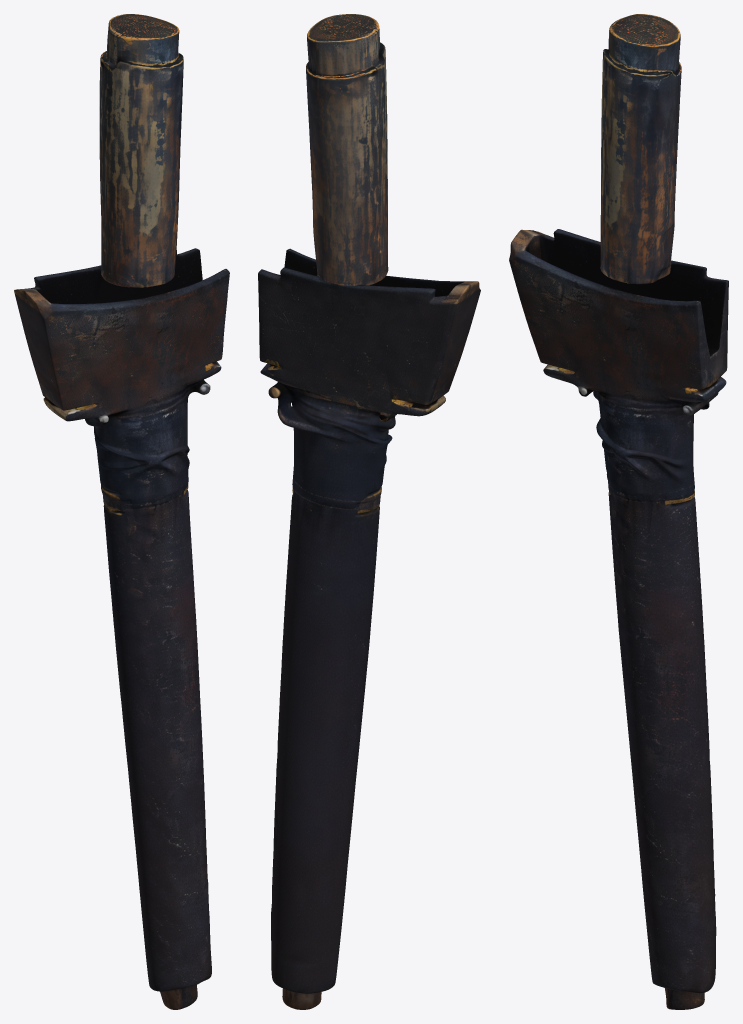
Rendered from Kris Luk 15.glb.
3 renders of one model, left to right at view 1: azimuth 30°, elevation 25°; view 2: azimuth 150°, elevation 25°; view 3: azimuth 330°, elevation 25°, orthographic.
Parts seen in each view (by area): view 1: Mesh_0; view 2: Mesh_0; view 3: Mesh_0.
Boxes of the visible parts, box(x1,y1,x2,y2) form: Mesh_0: box(14, 14, 229, 1009); Mesh_0: box(258, 14, 480, 1009); Mesh_0: box(509, 14, 728, 1009).
Bounding box in the file's own units: 0.1217 × 0.5958 × 0.0474.
1 material, 1 textured.
